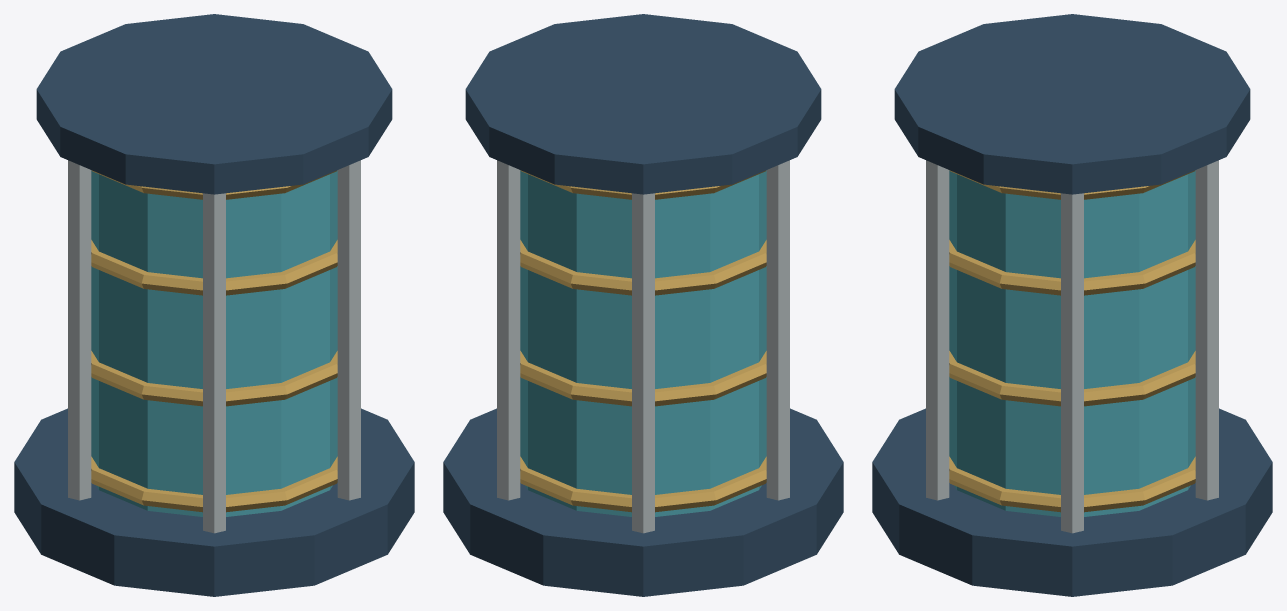
Rendered from SpaceStation_ReactorCore_Standard.glb.
The picture shows the model from 3 angles, left to right: view 1: azimuth 30°, elevation 25°; view 2: azimuth 150°, elevation 25°; view 3: azimuth 270°, elevation 25°; orthographic projection.
Visible parts, largest first — view 1: SpaceStation_ReactorCore_Standard; view 2: SpaceStation_ReactorCore_Standard; view 3: SpaceStation_ReactorCore_Standard.
Part boxes in pixels (x1,y1,x2,y2): SpaceStation_ReactorCore_Standard: (14,14,414,596); SpaceStation_ReactorCore_Standard: (443,14,843,596); SpaceStation_ReactorCore_Standard: (872,14,1272,596).
Size of the model in its own units: 3.6 by 4.2 by 3.6.
